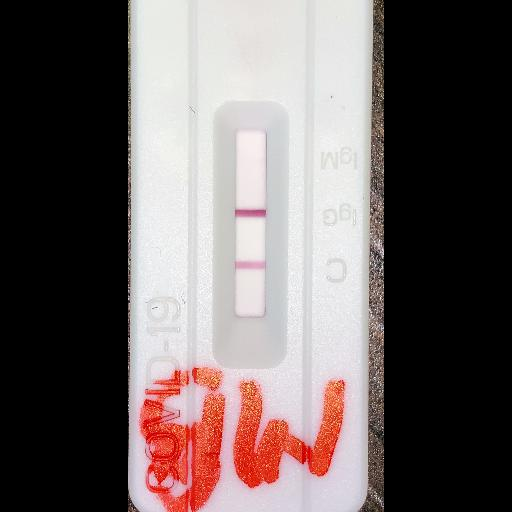Pos: (127, 0, 369, 511)
